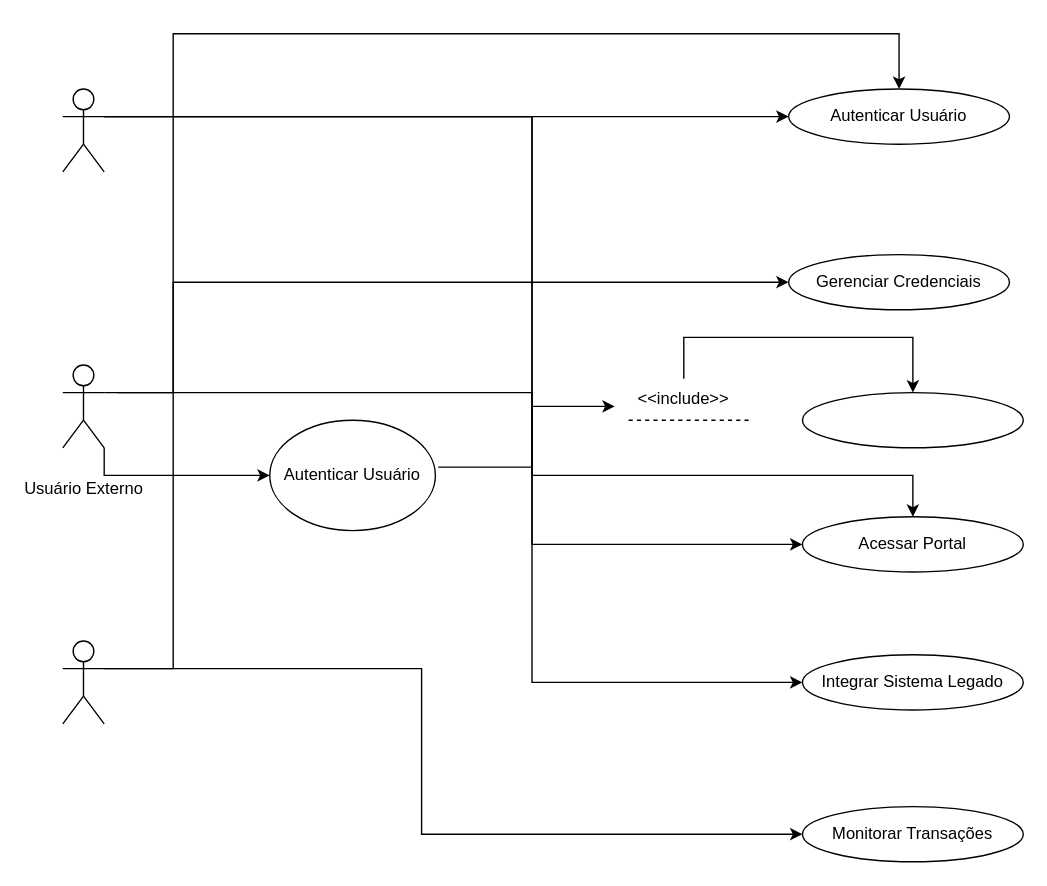
Some shapes in this 1047 by 886 pixel diagram are drawn without their labels. The box of each missing label's shape, as (x1, y1, x2, y2) in pixels:
Administrador: (61, 640, 104, 724)
Emitir JWT: (801, 391, 1023, 448)
Usuário Interno: (61, 88, 104, 172)
